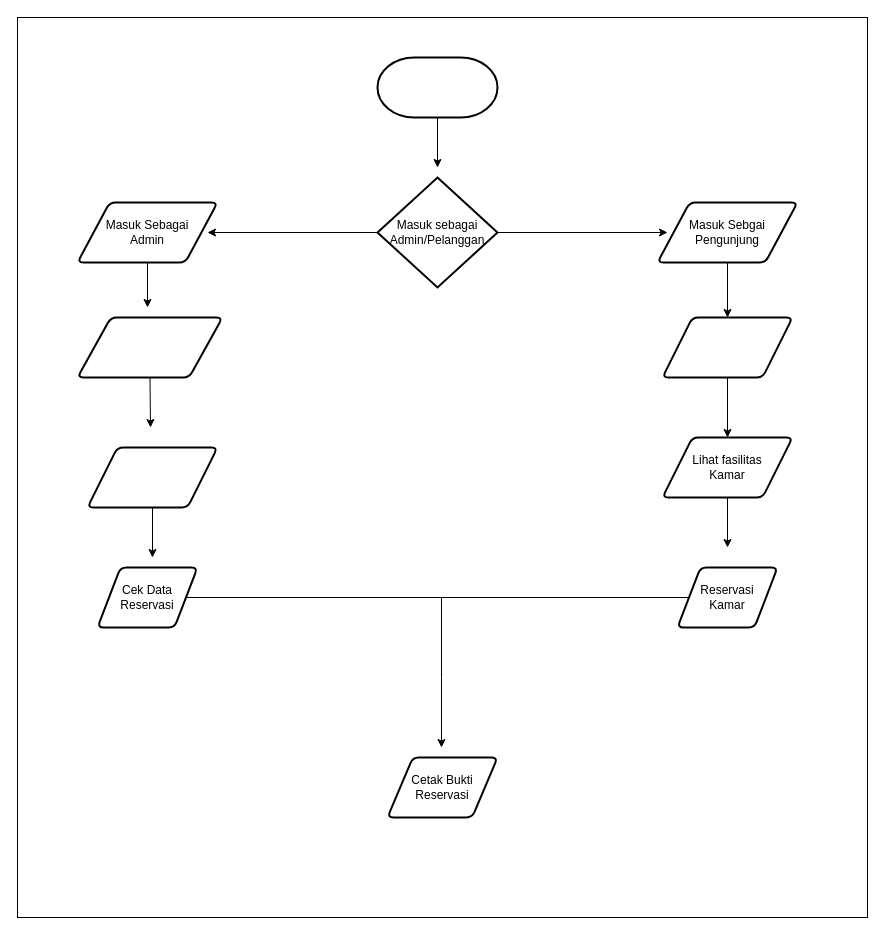
Image size: 885x935. Some labels were removed from this diagram. The shapes that lost their labels are listed below. From the top down, each one's centre as x and y in pixels, then its label:
At (x=437, y=87): "Mulai".
At (x=149, y=347): "Edit dan Update Data Kamar".
At (x=727, y=347): "Lihat Tipe Kamar".
At (x=152, y=477): "Edit dan Update Fasilitas Hotel".
